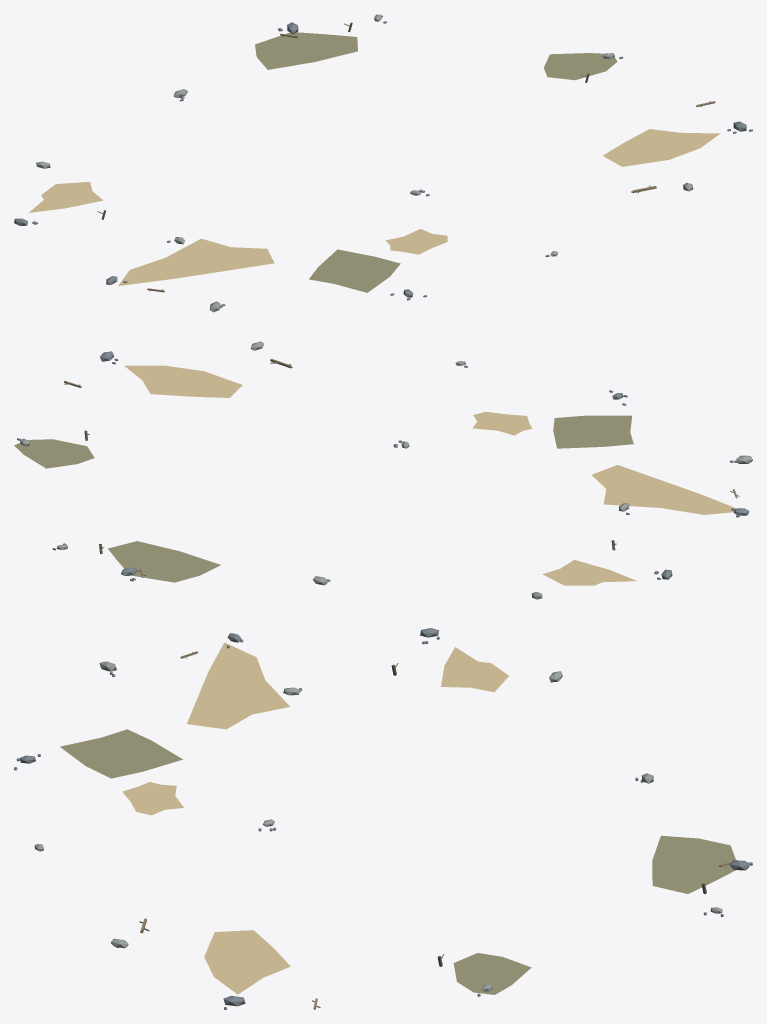
The model's file is env_wilderness_details.glb.
The picture shows the model from 3 angles, top to bottom: view 1: azimuth 30°, elevation 25°; view 2: azimuth 150°, elevation 25°; view 3: azimuth 270°, elevation 25°; orthographic projection. The views are drawn at different scales.
Parts seen in each view (by area): view 1: env_wilderness_details; view 2: env_wilderness_details; view 3: env_wilderness_details.
Boxes of the visible parts, box(x1,y1,x2,y2) form: env_wilderness_details: box(14, 14, 752, 312); env_wilderness_details: box(14, 341, 752, 599); env_wilderness_details: box(14, 628, 752, 1009).
Size of the model in its own units: 77.63 by 1.12 by 64.37.
